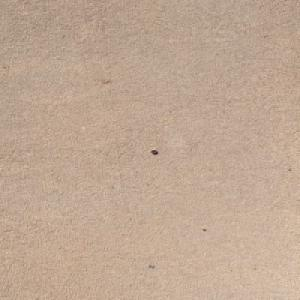Nut: (150, 149, 157, 153)
